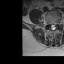CCS_normal: (52, 21, 54, 32)
LFS_stenosis: (56, 19, 58, 27)
LLS_normal: (54, 20, 56, 30)
RFS_normal: (48, 20, 50, 26)
RLS_normal: (50, 21, 52, 30)
